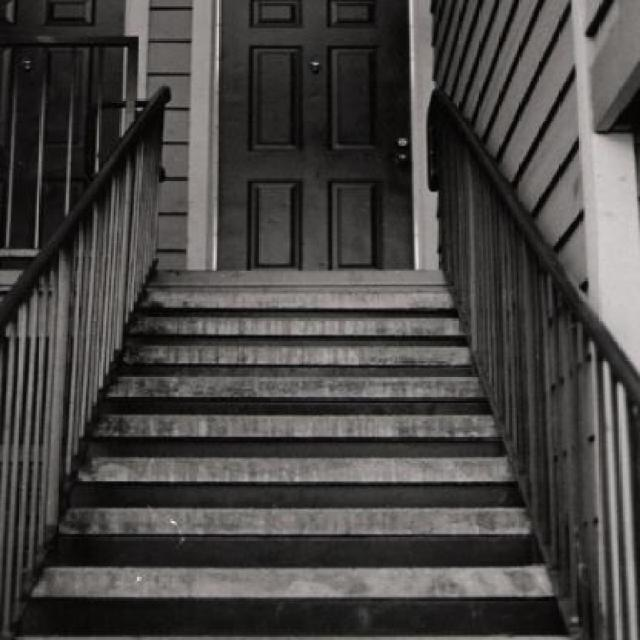stair: (1, 76, 638, 638)
